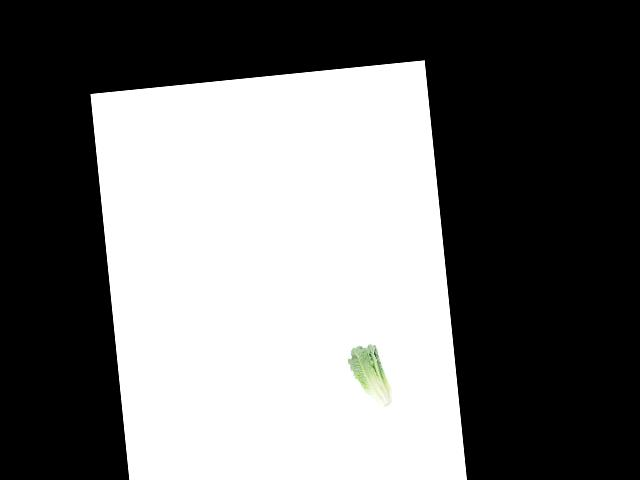lettuce: (347, 340, 395, 413)
